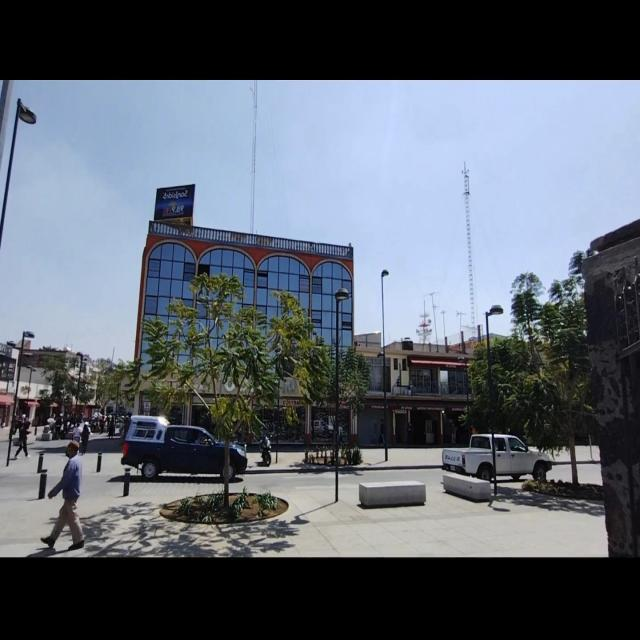adult: (41, 441, 84, 549), (72, 422, 91, 456)
